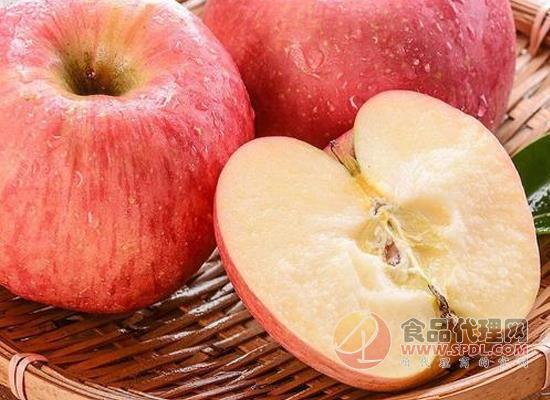apple: (216, 89, 542, 389), (2, 1, 253, 314), (210, 1, 529, 151)
